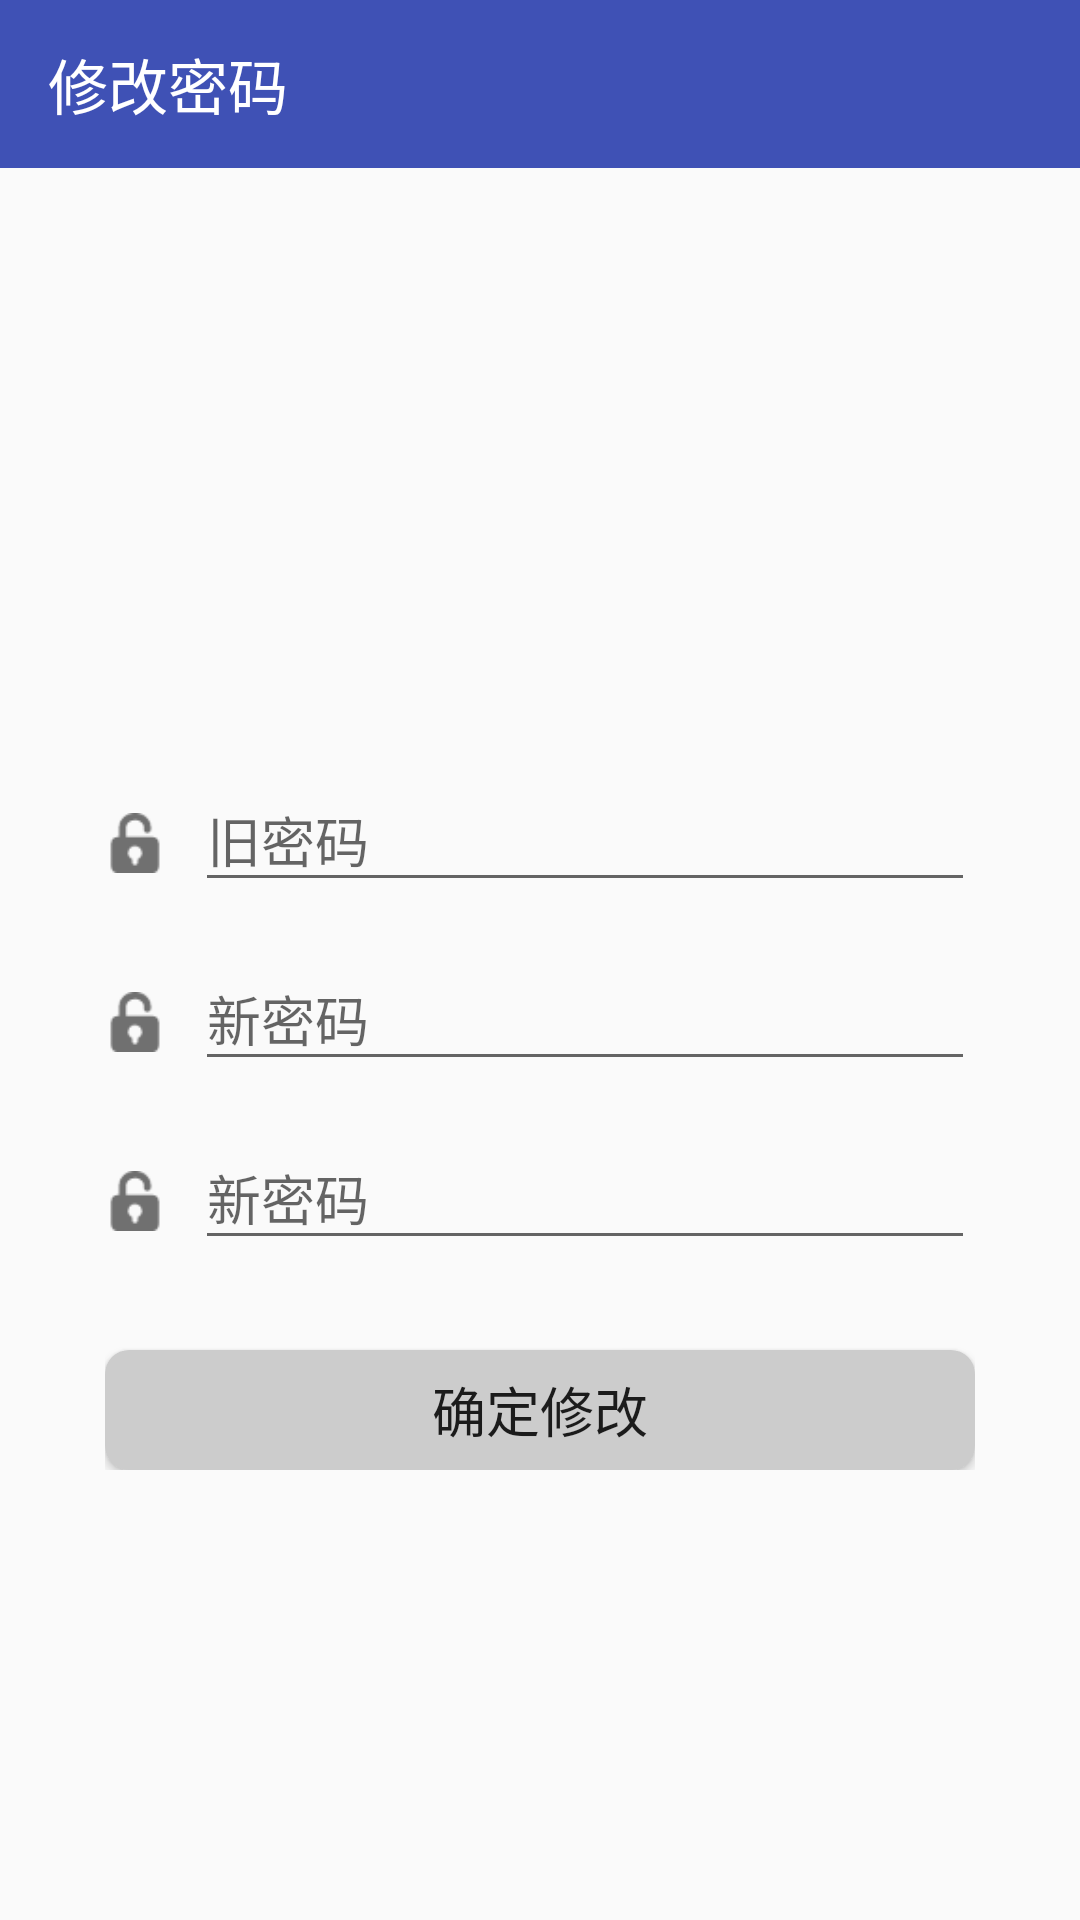

Icon click points for this 1080 x 1920 phone screenshot, format (x=x, y=y):
password: (x=135, y=843), (x=135, y=1022), (x=135, y=1201)
